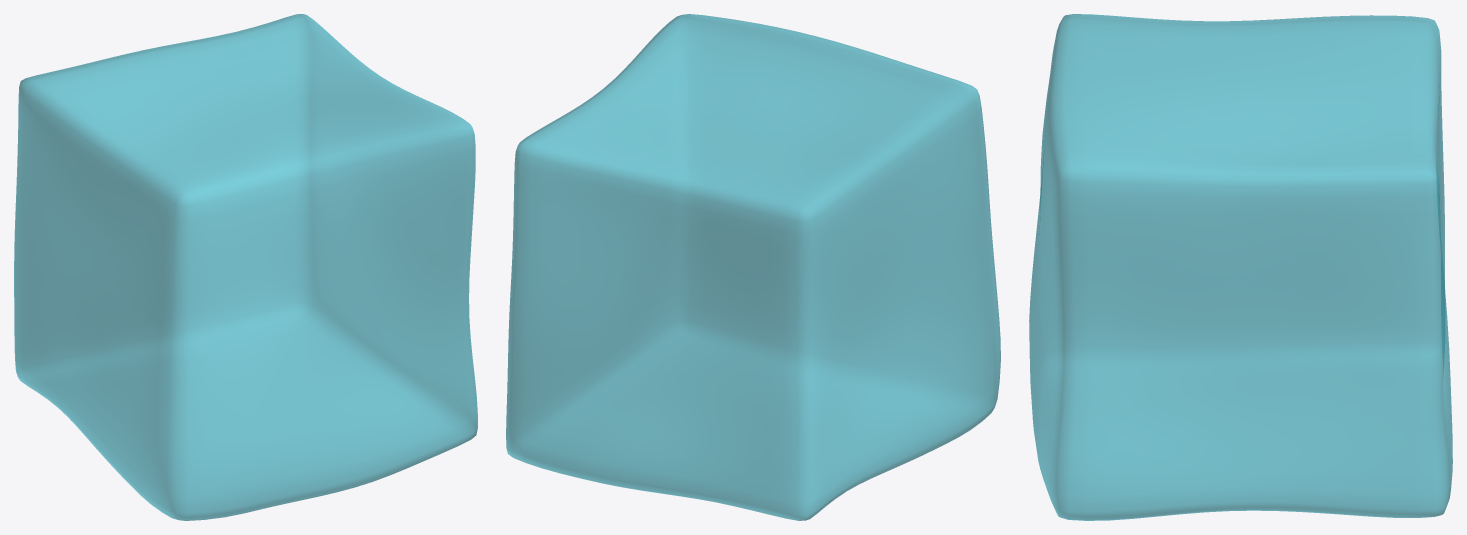
File: ice_V1.glb
The picture shows the model from 3 angles, left to right: view 1: azimuth 30°, elevation 25°; view 2: azimuth 150°, elevation 25°; view 3: azimuth 270°, elevation 25°; orthographic projection. The views are drawn at different scales.
Visible parts, largest first — view 1: Ice Cube.001; view 2: Ice Cube.001; view 3: Ice Cube.001.
Boxes of the visible parts, x1=… form: Ice Cube.001: x1=14, y1=14, x2=477, y2=520; Ice Cube.001: x1=506, y1=14, x2=1000, y2=520; Ice Cube.001: x1=1029, y1=14, x2=1452, y2=520.
Size of the model in its own units: 0.9095 by 0.9397 by 0.9381.
